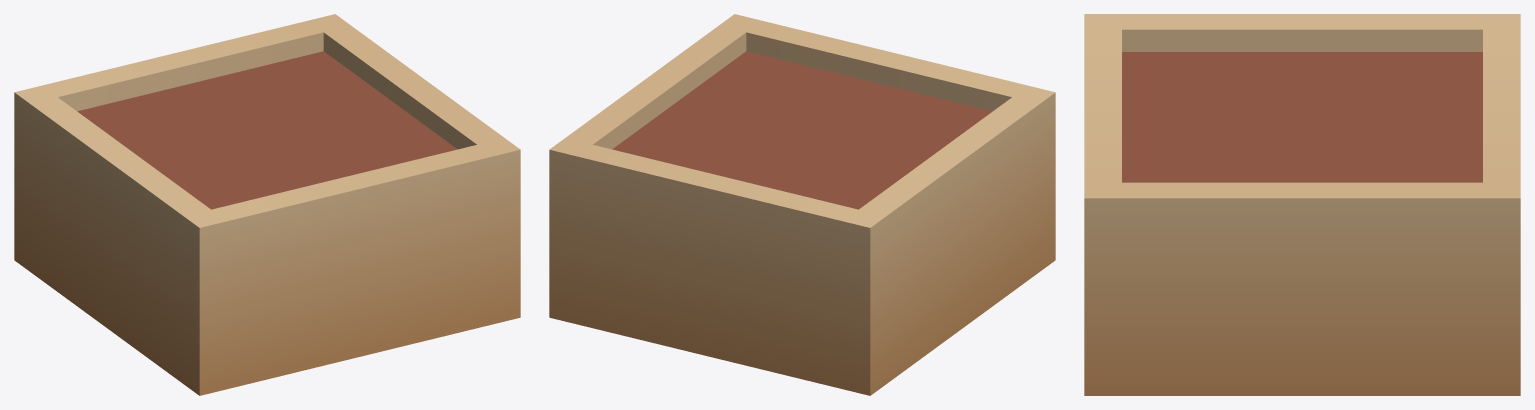
Rendered from SmallHouse01.fbx.
3 renders of one model, left to right at view 1: azimuth 30°, elevation 25°; view 2: azimuth 150°, elevation 25°; view 3: azimuth 270°, elevation 25°, orthographic. The views are drawn at different scales.
Visible parts, largest first — view 1: SmallHouse01; view 2: SmallHouse01; view 3: SmallHouse01.
Part boxes in pixels (x1=…): SmallHouse01: x1=14, y1=14, x2=520, y2=395; SmallHouse01: x1=549, y1=14, x2=1055, y2=395; SmallHouse01: x1=1084, y1=14, x2=1520, y2=395.
Bounding box in the file's own units: 2 × 1 × 2.
Materials: 1 (1 with a texture image).
